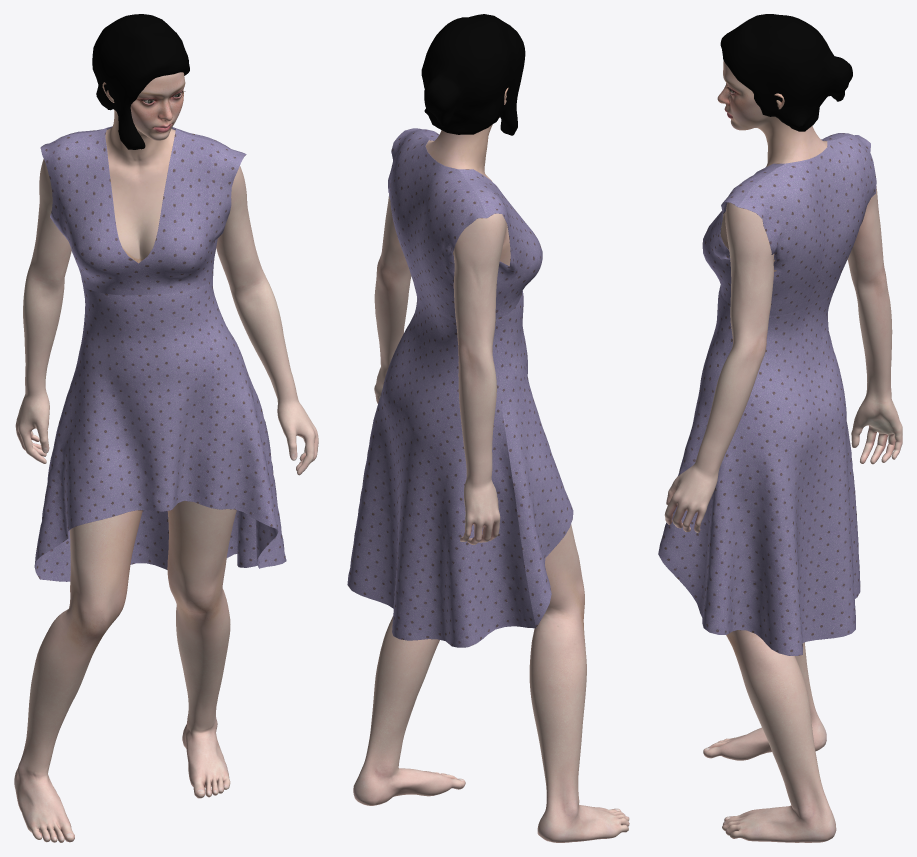
Rendered from Custom_View_7__FV2_05.obj.
3 renders of one model, left to right at view 1: azimuth 30°, elevation 25°; view 2: azimuth 150°, elevation 25°; view 3: azimuth 270°, elevation 25°, orthographic. The views are drawn at different scales.
Bounding box in the file's own units: 612 × 1724 × 484.
